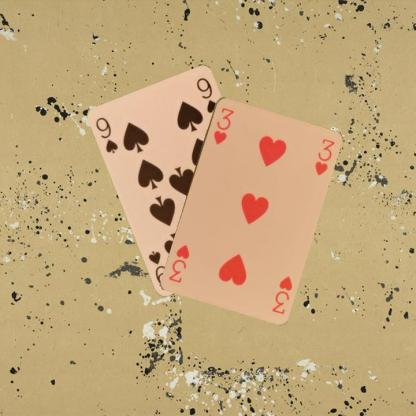3h: (269, 272, 294, 316), (210, 104, 235, 146)
9s: (93, 114, 119, 155)
